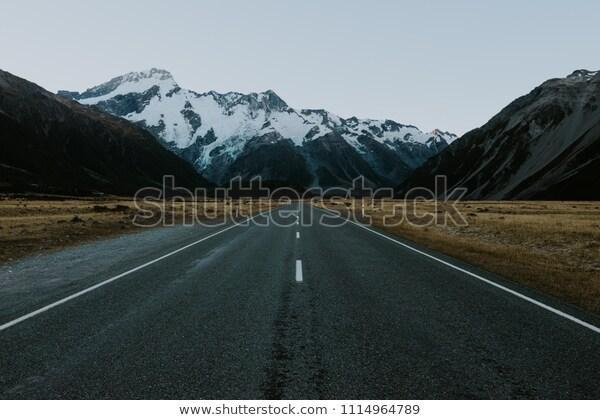language: (171, 399, 434, 420)
watersign: (125, 168, 469, 242)
